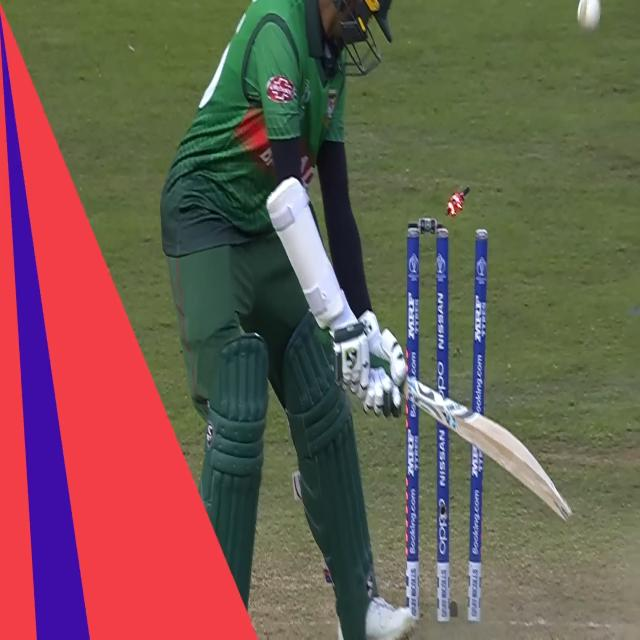ball: (574, 0, 604, 37)
